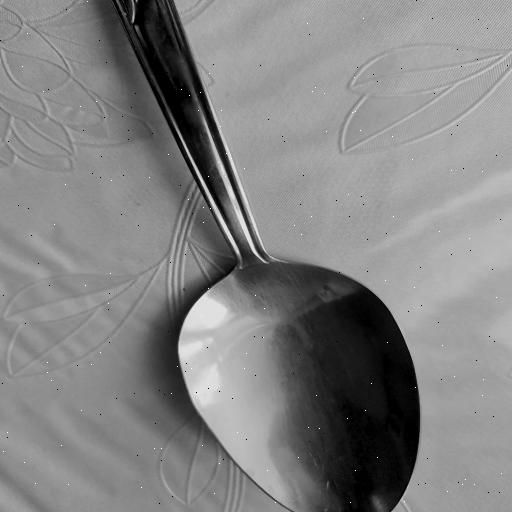spoon: (116, 0, 413, 512)
